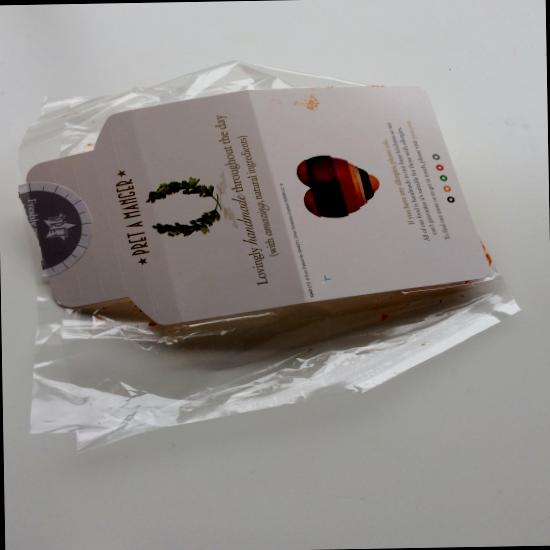Other carton: (26, 85, 490, 325)
Plastic film: (17, 60, 521, 455)
